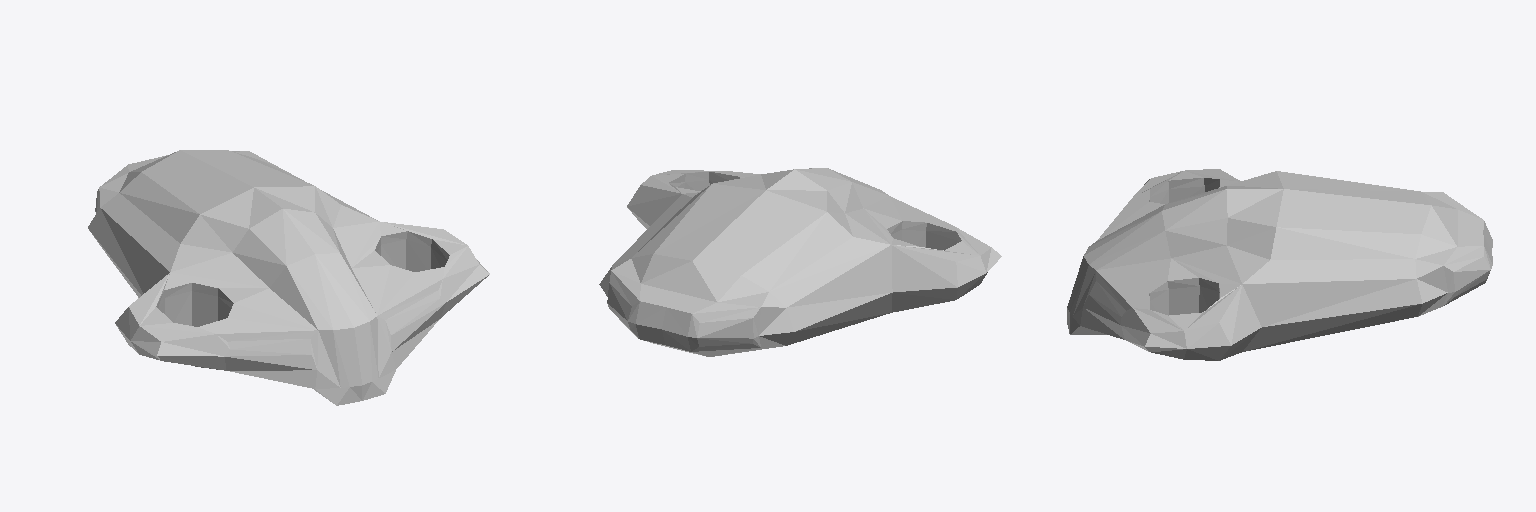
Rendered from LP_Flyingcar_02.obj.
3 views of the same model, side by side, from view 1: azimuth 30°, elevation 25°; view 2: azimuth 150°, elevation 25°; view 3: azimuth 270°, elevation 25° (orthographic).
Parts seen in each view (by area): view 1: UnrealEdObject; view 2: UnrealEdObject; view 3: UnrealEdObject.
Boxes of the visible parts, x1=… form: UnrealEdObject: x1=88, y1=150, x2=489, y2=405; UnrealEdObject: x1=599, y1=168, x2=1001, y2=356; UnrealEdObject: x1=1067, y1=169, x2=1492, y2=360.
Size of the model in its own units: 91.99 by 34.3 by 98.56.